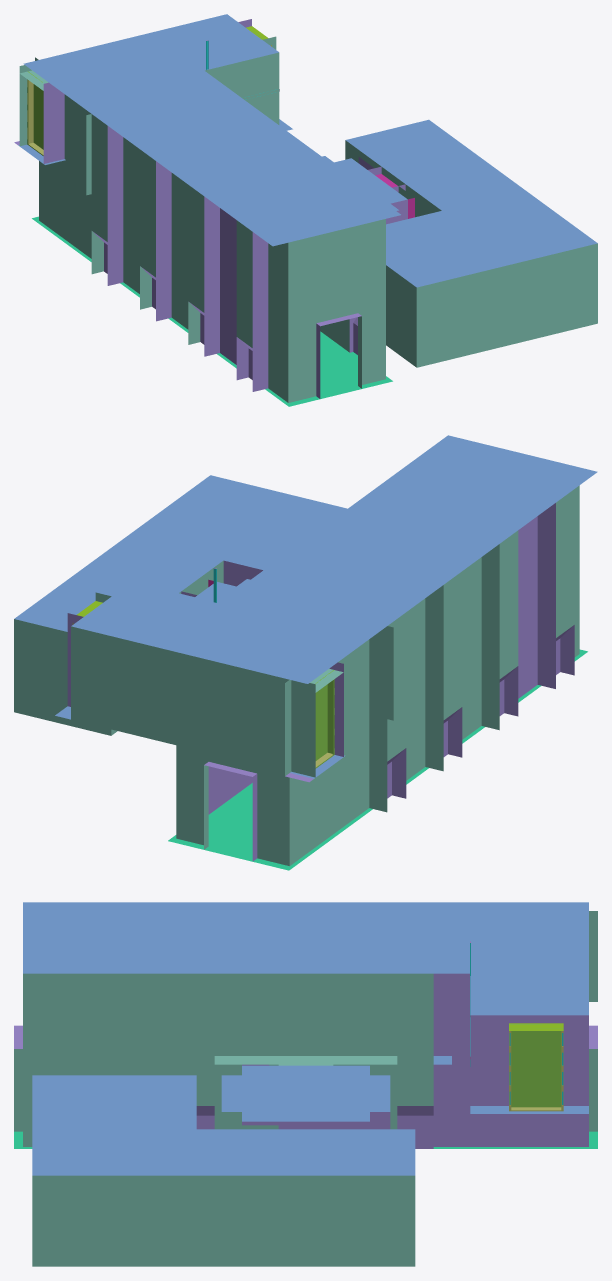
File: Room2_Supply_LCZ.fbx
3 views of the same model, one above another, from view 1: azimuth 30°, elevation 25°; view 2: azimuth 150°, elevation 25°; view 3: azimuth 270°, elevation 25° (orthographic). The views are drawn at different scales.
Parts seen in each view (by area): view 1: Room2_Supply_LCZ; view 2: Room2_Supply_LCZ; view 3: Room2_Supply_LCZ.
Boxes of the visible parts, left/top/right/bottom form: Room2_Supply_LCZ: left=14, top=14, right=597, bottom=406; Room2_Supply_LCZ: left=14, top=435, right=597, bottom=870; Room2_Supply_LCZ: left=14, top=902, right=597, bottom=1266.
Bounding box in the file's own units: 15.36 × 8.32 × 20.48.
